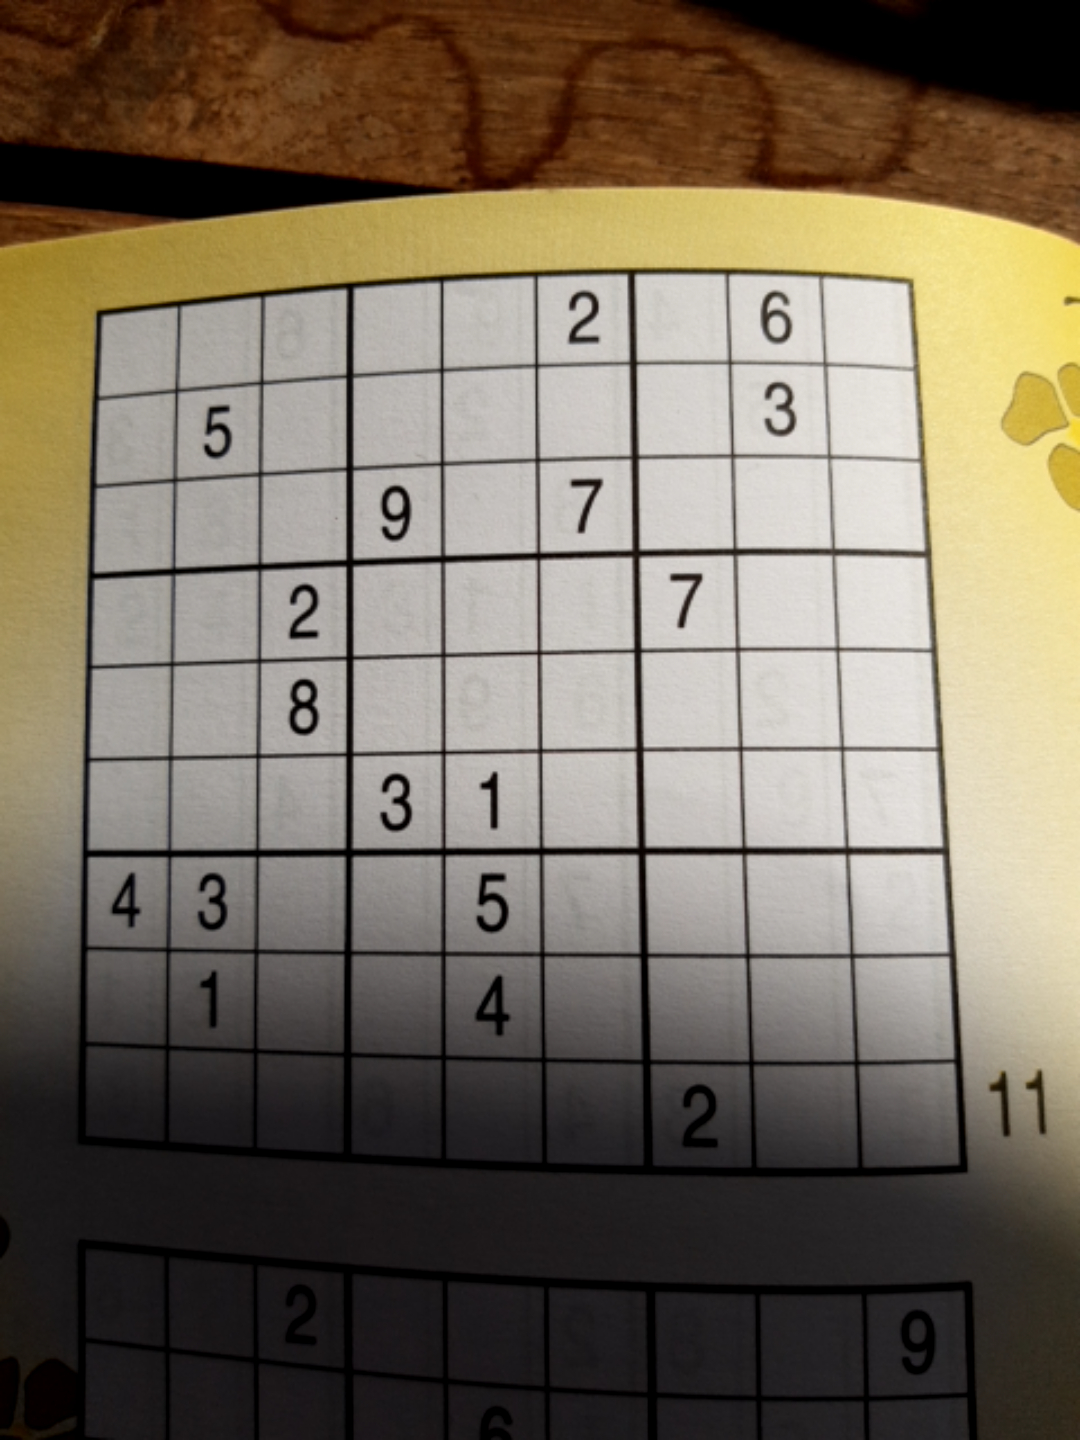sudoku: (73, 268, 957, 1176)
